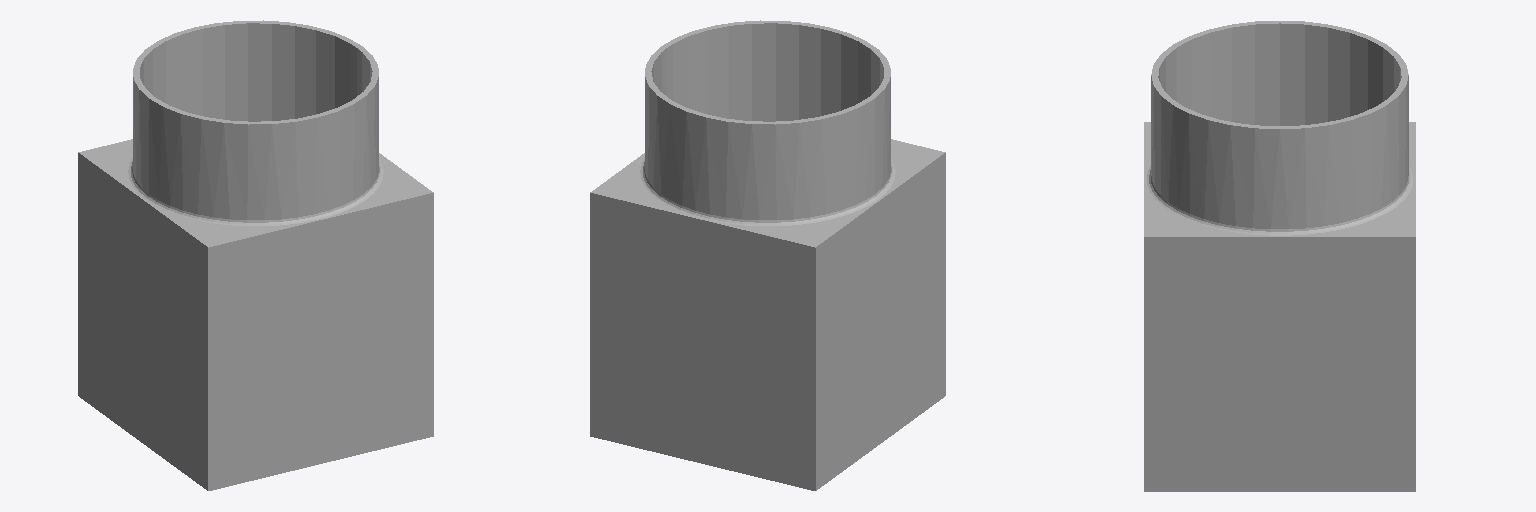
robot.urdf — root:
<?xml version='1.0' encoding='utf-8'?>
<robot name="root">
  <link name="link_001">
    <visual>
      <origin xyz="0 0 0" rpy="0 0 0" />
      <geometry>
        <mesh filename="987d39132e1d0113ded396861fb6bdf4cab4b562af7a3ebfda4ef192945acd4b_scale_284.stl" scale="1.0000E+00 1.0000E+00 1.0000E+00" />
      </geometry>
      <material name="">
        <color rgba="7.50E-01 7.50E-01 7.50E-01 1" />
      </material>
    </visual>
    <collision>
      <origin xyz="0 0 0" rpy="0 0 0" />
      <geometry>
        <mesh filename="987d39132e1d0113ded396861fb6bdf4cab4b562af7a3ebfda4ef192945acd4b_scale_284.stl" scale="1.0000E+00 1.0000E+00 1.0000E+00" />
      </geometry>
    </collision>
  </link>
</robot>

--- Render facts (derived) ---
Views: 3 orthographic renders of the robot side by side, from view 1: azimuth 30°, elevation 25°; view 2: azimuth 150°, elevation 25°; view 3: azimuth 270°, elevation 25°.
Robot: root — 1 links, 0 joints (none); root link link_001; default pose: all joints at 0.
Links seen in each view (by area): view 1: link_001; view 2: link_001; view 3: link_001.
Boxes of the visible links, x1,y1,x2,y2 form: link_001: (78,20,433,490); link_001: (590,20,945,490); link_001: (1144,21,1415,491).
Size in the robot's own frame: 0.0823 by 0.0823 by 0.12 metres.
1 mesh visuals loaded from 1 distinct referenced files (1 binary STL).
